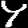Y: (0, 0, 28, 28)
